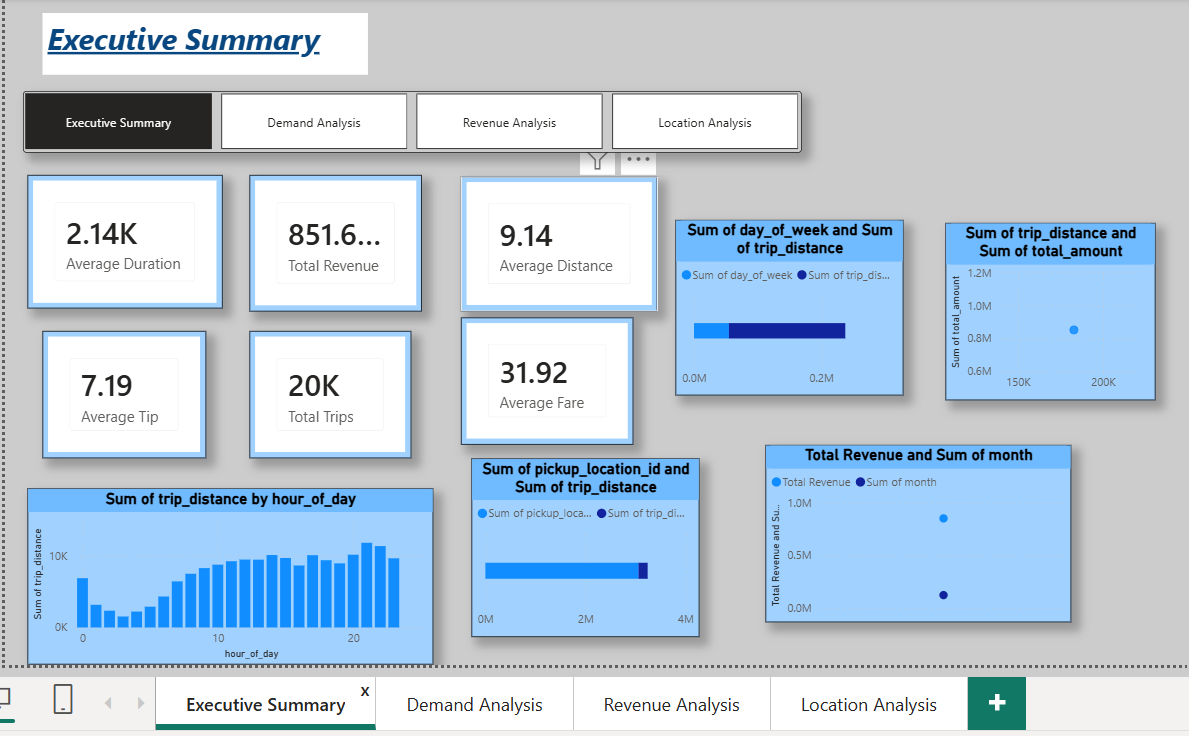

This screenshot's page, from the dashboard's own definition file:
{"tool":"powerbi","page":{"name":"Executive Summary","canvas":[1280,720],"ordinal":0},"visuals":[{"type":"cardVisual","fields":{"Data":["uber_small.Total Trips"]},"box":[754.6,361.1,210.5,137.6],"z":0},{"type":"cardVisual","fields":{"Data":["uber_small.Total Revenue"]},"box":[754.6,191.1,210.5,147.3],"z":1000},{"type":"cardVisual","fields":{"Data":["uber_small.Average Tip"]},"box":[981.3,29.1,223.5,137.6],"z":2000},{"type":"areaChart","title":"Revenue by Day of Week","fields":{"Category":["uber_small.day_of_week"],"Y":["uber_small.Total Revenue"]},"box":[900.3,526.2,330.3,191.1],"z":3000},{"type":"clusteredColumnChart","title":"Trip Distance by Hour","fields":{"Category":["uber_small.hour_of_day"],"Y":["Sum(uber_small.trip_distance)"]},"box":[24,530,438,190],"z":4000},{"type":"columnChart","title":"Trip Distance by Pickup Location","fields":{"Category":["uber_small.pickup_location_id"],"Y":["Sum(uber_small.trip_distance)"]},"box":[489,524.6,387,192.7],"z":5000},{"type":"pageNavigator","box":[19.4,100.4,840.4,66.4],"z":6000},{"type":"cardVisual","fields":{"Data":["uber_small.Average Fare"]},"box":[982.9,359.5,233.2,137.6],"z":7000},{"type":"textbox","box":[40.5,16.2,351.4,66.4],"z":8000},{"type":"cardVisual","fields":{"Data":["uber_small.Avg Distance"]},"box":[982.9,187.8,233.2,150.6],"z":9000},{"type":"textbox","box":[19.4,191.1,710.8,320.6],"z":10000}]}

Visuals, with their boxes on the page's 1280x720 design canvas (x1, y1, x2, y2). These are canvas units, not pixel positions in the 1189x736 screenshot, which may show the page scaled, cropped or inside an application window:
cardVisual - uber_small.Total Trips: 755,361,965,499
cardVisual - uber_small.Total Revenue: 755,191,965,338
cardVisual - uber_small.Average Tip: 981,29,1205,167
"Revenue by Day of Week" areaChart: 900,526,1231,717
"Trip Distance by Hour" clusteredColumnChart: 24,530,462,720
"Trip Distance by Pickup Location" columnChart: 489,525,876,717
pageNavigator: 19,100,860,167
cardVisual - uber_small.Average Fare: 983,360,1216,497
textbox: 40,16,392,83
cardVisual - uber_small.Avg Distance: 983,188,1216,338
textbox: 19,191,730,512
